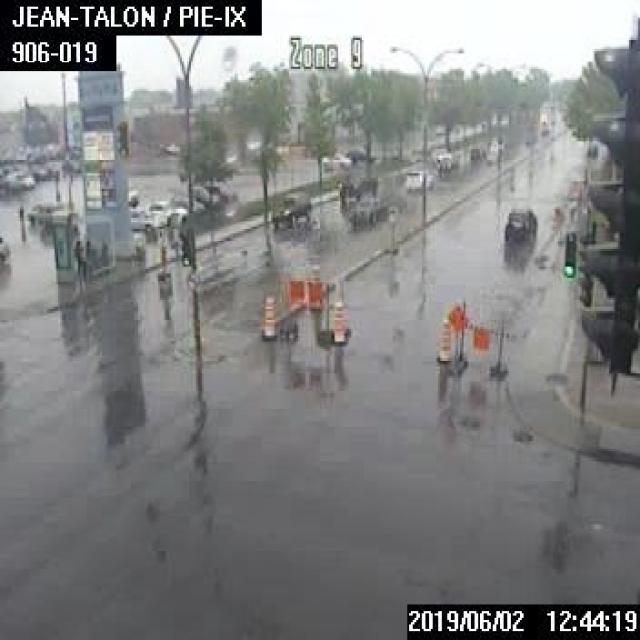construction: (275, 270, 349, 344), (446, 296, 514, 376), (258, 292, 275, 339), (330, 300, 346, 344), (434, 313, 449, 359)
pedestrian: (71, 235, 85, 278), (178, 215, 190, 261), (16, 203, 22, 230)
vehicle: (270, 188, 309, 226), (348, 193, 388, 224), (141, 198, 187, 224), (337, 169, 376, 199), (26, 200, 64, 227), (504, 207, 536, 239), (127, 206, 161, 230), (402, 167, 433, 191), (185, 183, 217, 205), (167, 195, 204, 212), (6, 169, 33, 187), (0, 234, 9, 264), (469, 144, 484, 159), (126, 186, 137, 205), (586, 141, 596, 154)
